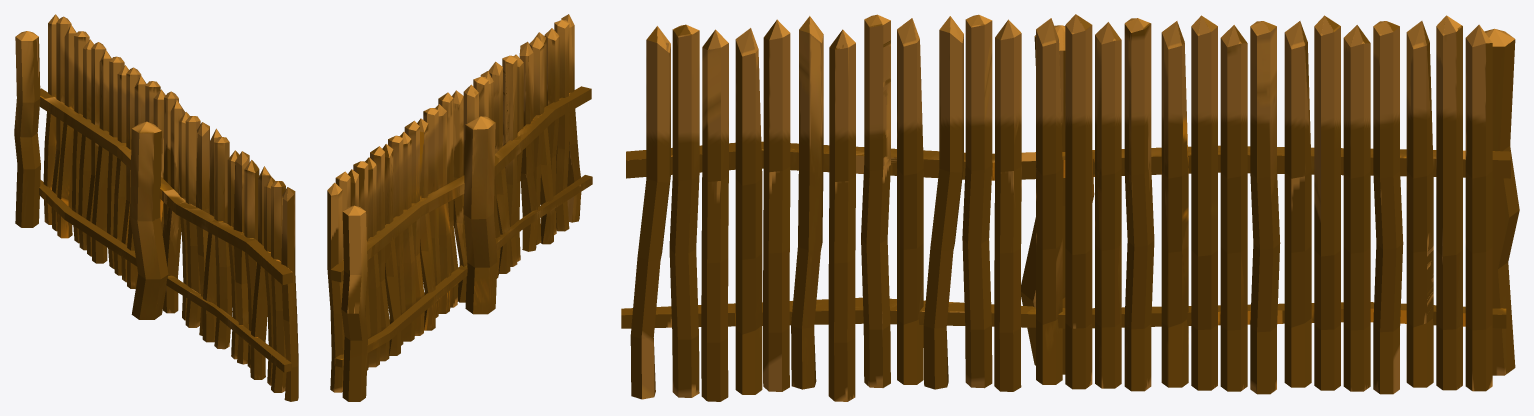
Rendered from fence.fbx.
3 views of the same model, side by side, from view 1: azimuth 30°, elevation 25°; view 2: azimuth 150°, elevation 25°; view 3: azimuth 270°, elevation 25° (orthographic). The views are drawn at different scales.
Parts seen in each view (by area): view 1: Cylinder.001; view 2: Cylinder.001; view 3: Cylinder.001.
Part boxes in pixels (<box>): Cylinder.001: <box>14,14,298,401</box>; Cylinder.001: <box>327,14,592,401</box>; Cylinder.001: <box>621,14,1519,401</box>.
Size of the model in its own units: 114 by 488 by 1041.
Materials: 1 (1 with a texture image).
